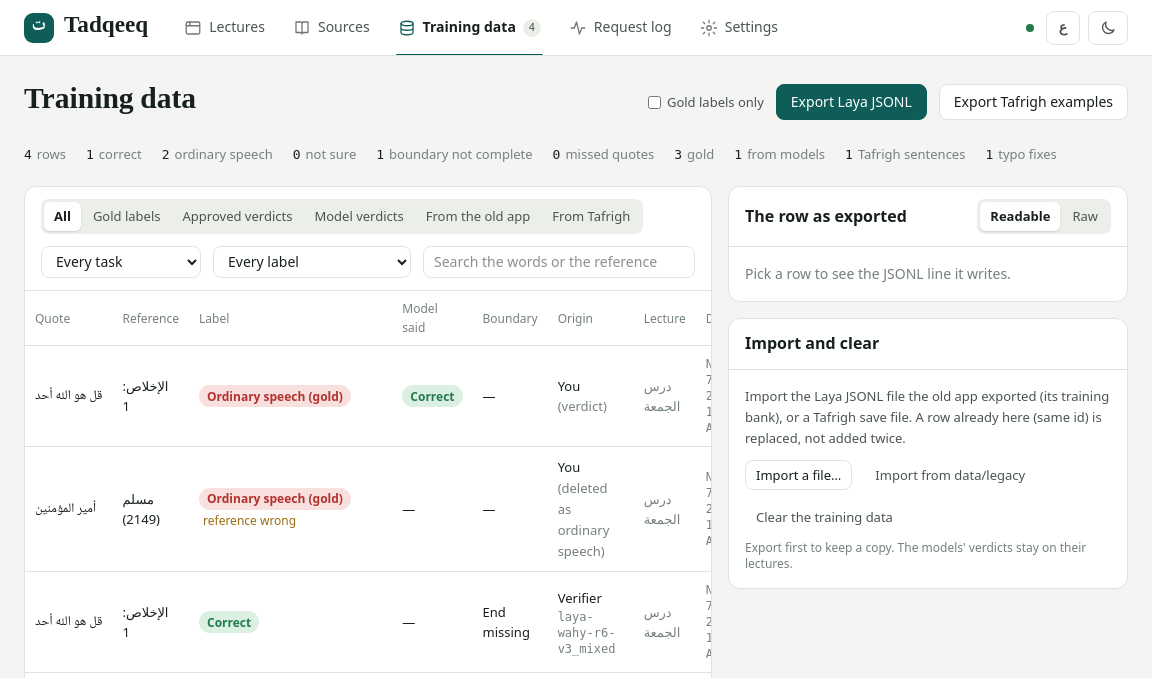
Scenario: the filters go to the server, and a row opens the line it exports
Click the button "Gold labels" at (127, 217), box x1=83 y1=202 x2=170 y2=231
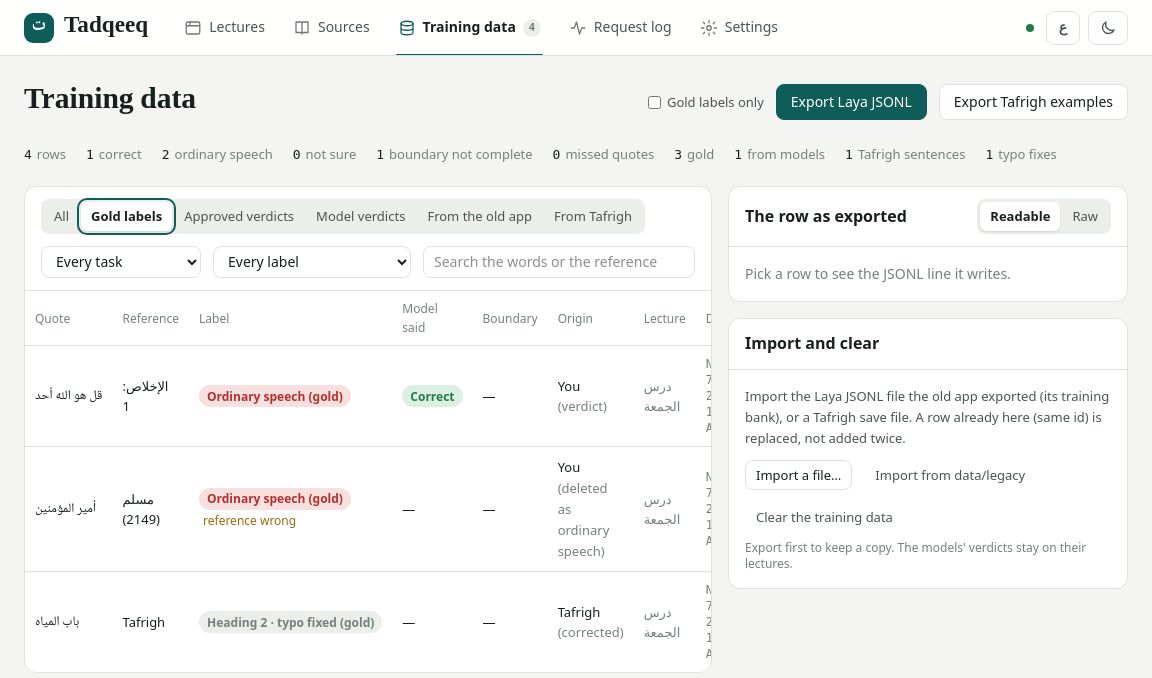
Expected: the number of rows with test id "train-row" is 3, x1=25 y1=346 x2=711 y2=447; x1=25 y1=447 x2=711 y2=572; x1=25 y1=572 x2=711 y2=672
Select "Boundary not complete" in the dropdown named "Label" at (312, 262), box x1=213 y1=246 x2=411 y2=278
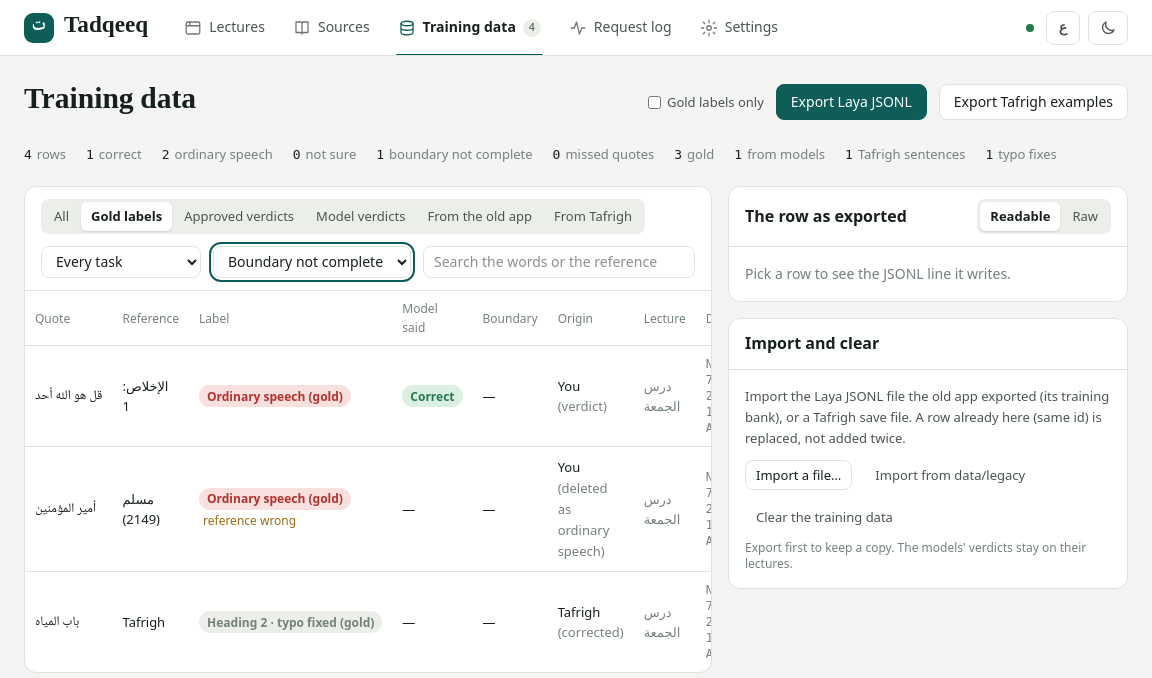
Click the row with test id "train-row" that starts with "قل هو الله أحد" at (388, 396), box x1=25 y1=346 x2=752 y2=447
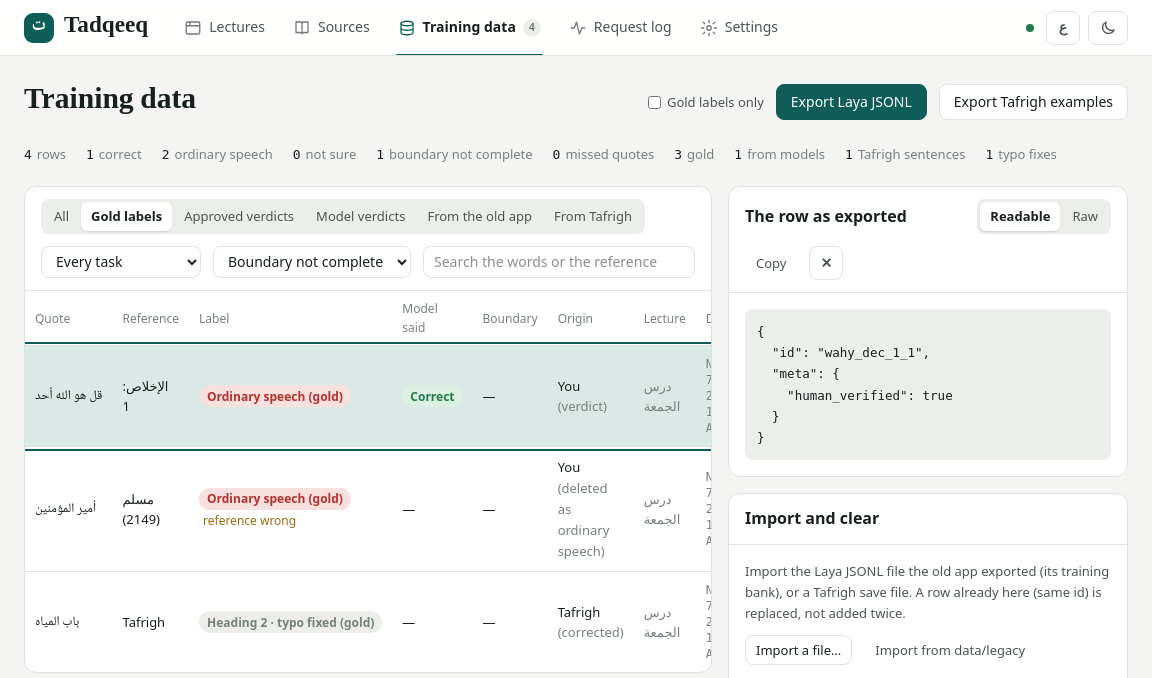
Expected: the text with test id "train-json" shows "\"human_verified\": true", x1=757 y1=324 x2=953 y2=445
